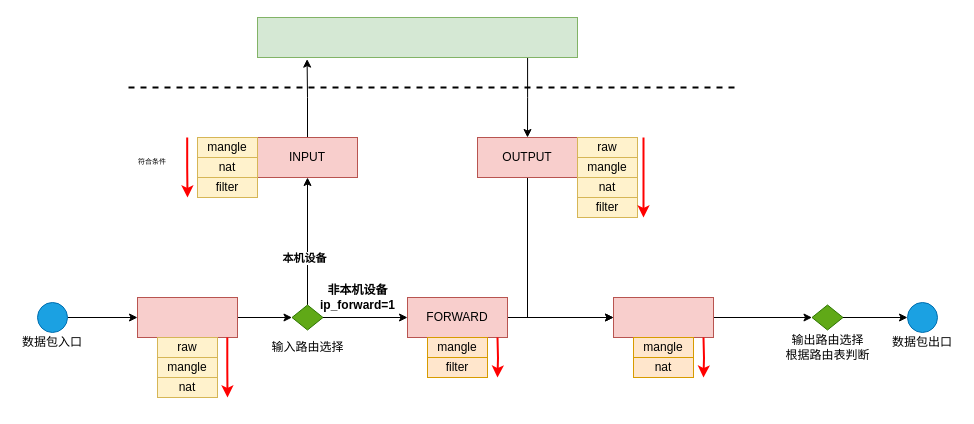
This 974x424 diagram has some shape labels left out. The shapes that lost their labels are listed below. From the top down, each one's centre as x and y in pixels, then its label:
the point at 417,37: 上层协议栈
the point at 187,317: PREROUTING
the point at 663,317: POSTROUTING
